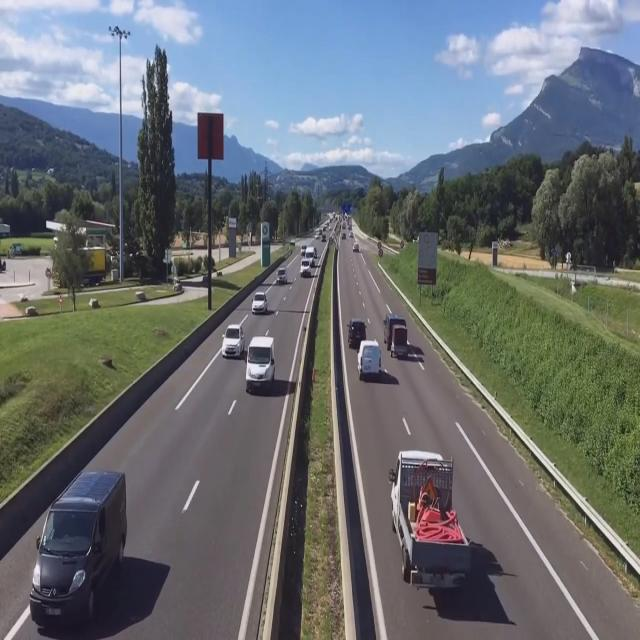car: (29, 470, 132, 636), (246, 337, 278, 396), (357, 340, 382, 383), (223, 323, 247, 359), (383, 311, 405, 348), (346, 317, 368, 351), (252, 292, 268, 315), (275, 265, 287, 284)
truck: (392, 451, 467, 585)
